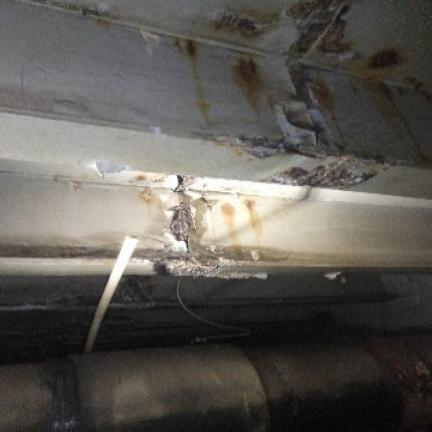besi_tidak_karat: (0, 112, 311, 182)
